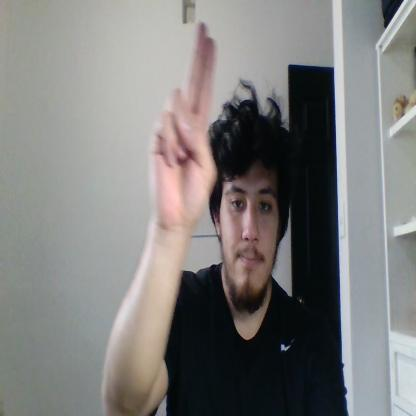U: (149, 21, 218, 229)
